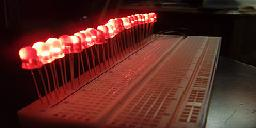LED: (17, 46, 46, 104), (47, 36, 70, 92), (104, 17, 119, 53)
